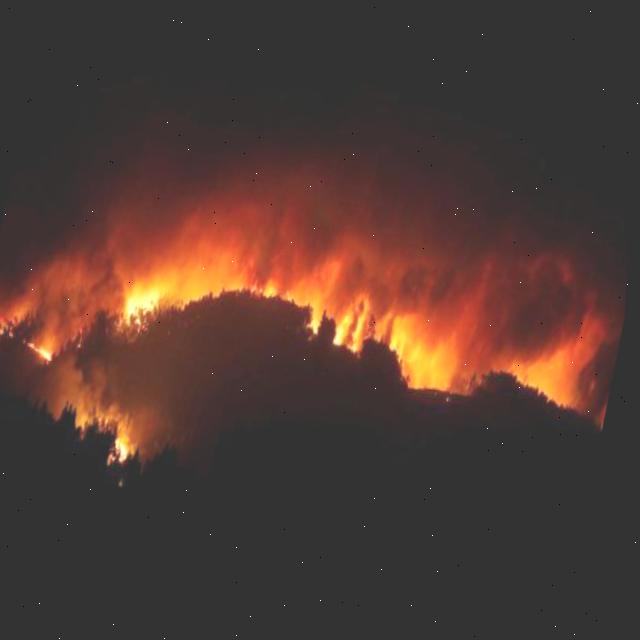fire: (128, 282, 164, 330), (337, 308, 370, 353)
smoke: (3, 166, 625, 423)
